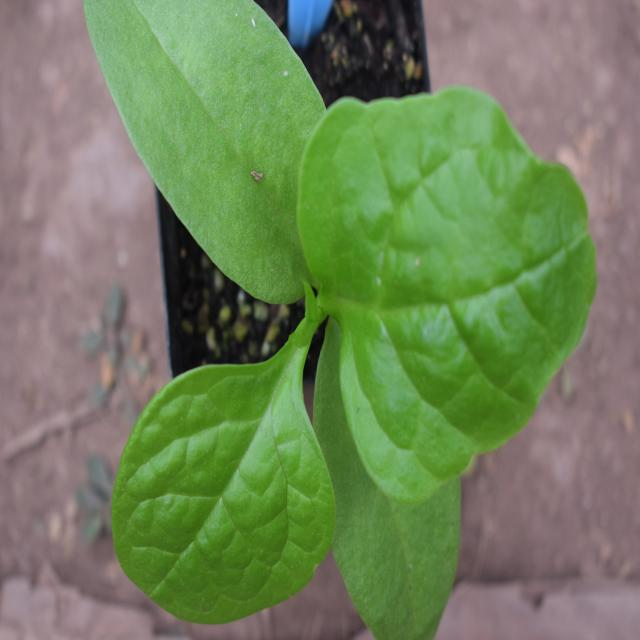Ceylon spinach: (98, 0, 594, 616)
